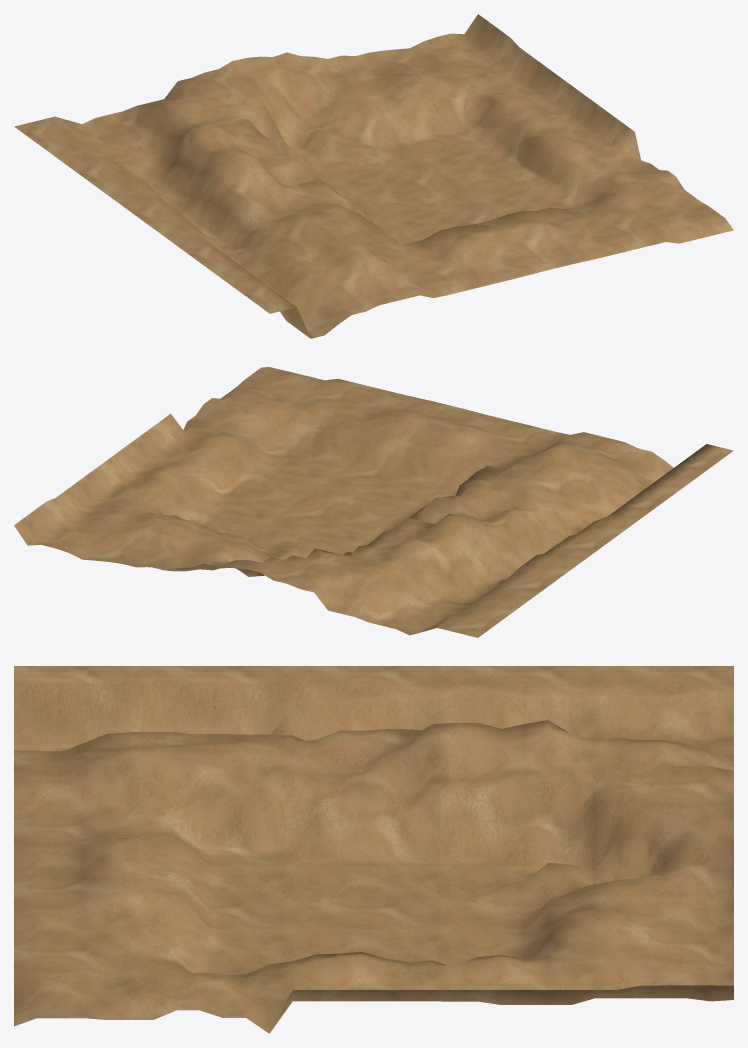
File: Terrain01_LostTemple_003.FBX
3 renders of one model, top to bottom at view 1: azimuth 30°, elevation 25°; view 2: azimuth 150°, elevation 25°; view 3: azimuth 270°, elevation 25°, orthographic. The views are drawn at different scales.
Parts seen in each view (by area): view 1: Terrain01_LostTemple_003; view 2: Terrain01_LostTemple_003; view 3: Terrain01_LostTemple_003.
Boxes of the visible parts, x1,y1,x2,y2 form: Terrain01_LostTemple_003: (14,14,733,338); Terrain01_LostTemple_003: (14,367,733,637); Terrain01_LostTemple_003: (14,666,733,1033).
Bounding box in the file's own units: 17782 × 2007 × 16988.
1 material, 1 textured.
